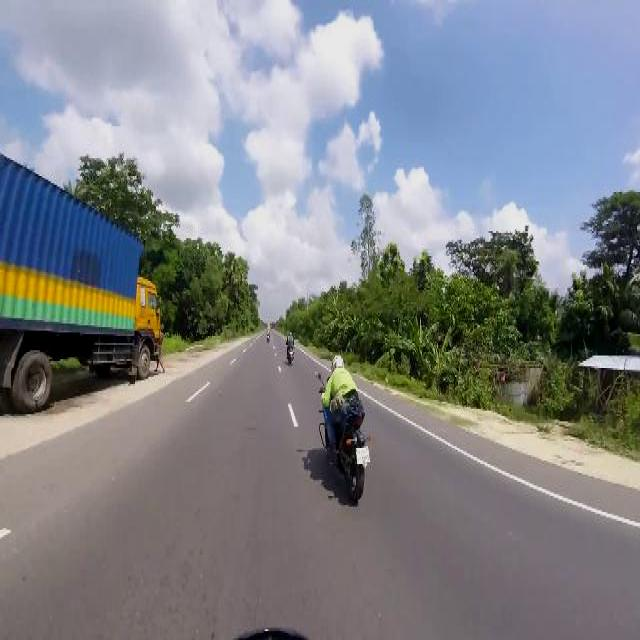MOTORCYCLE: (318, 379, 367, 505)
